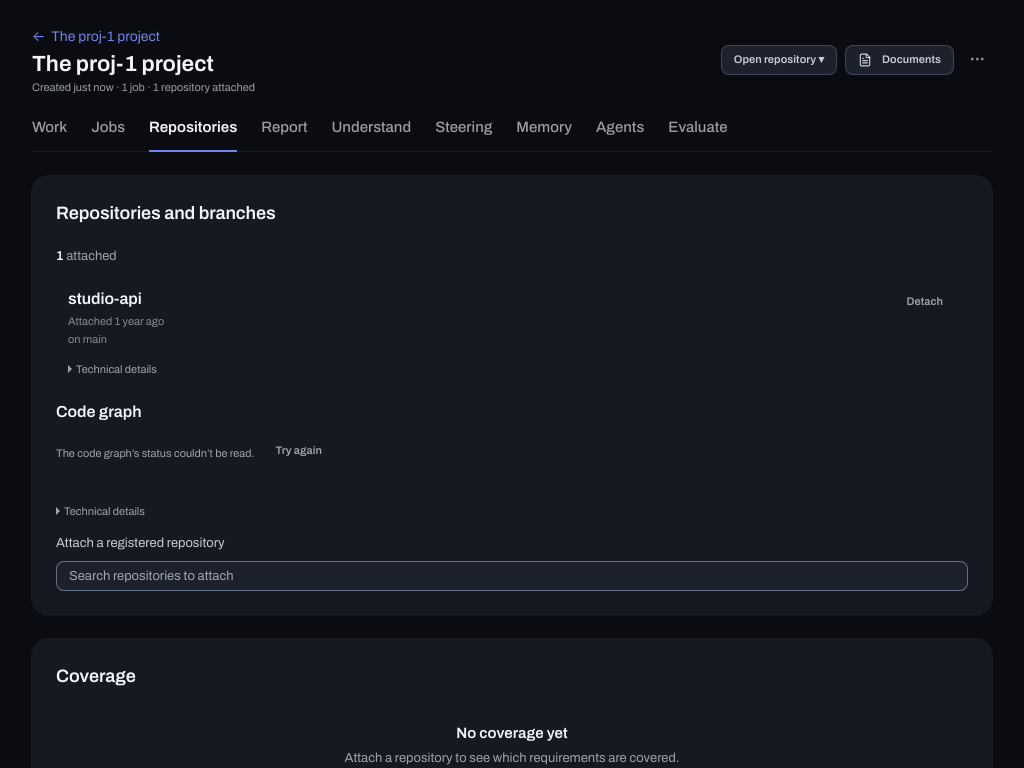
Test: ProjectDesk — Repositories section (studio#207) › attach and detach hand the parent back its non-repo members untouched
This screenshot has width=1024, height=768.
Focus the field with test id "project-repo-search" at (512, 576), box [56,561,968,591]
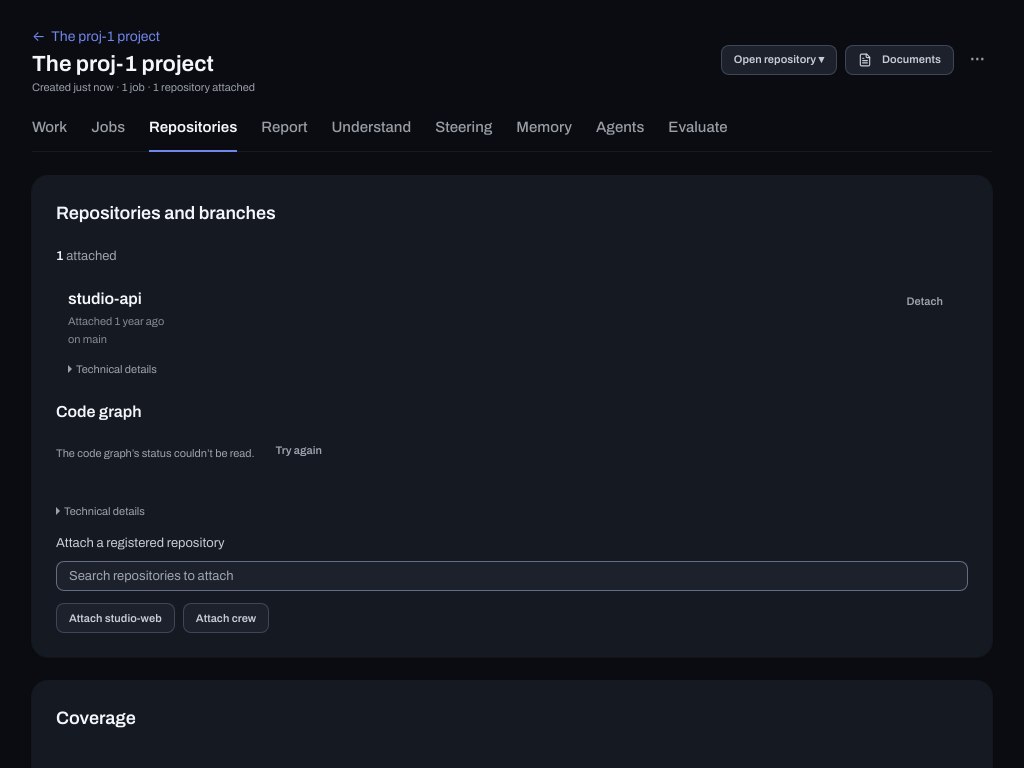
Click the button with test id "project-repo-option" showing "Attach crew" at (226, 618), box [183,603,269,633]
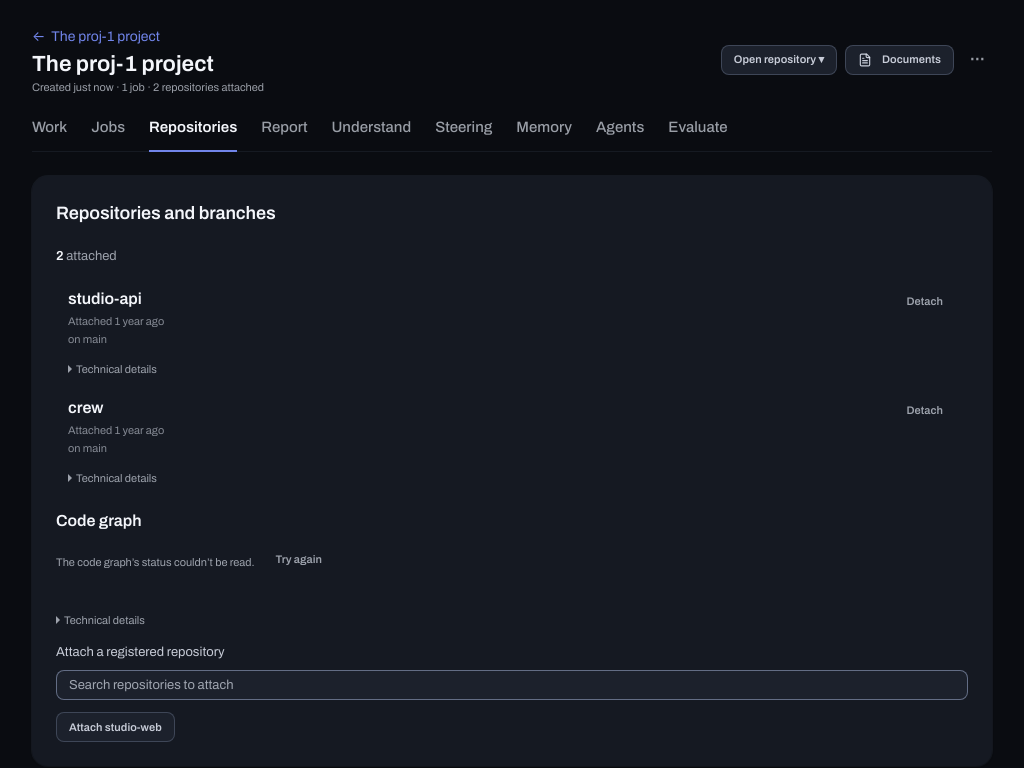
Now the number of elements with test id "project-repo-row" is 2, box [56,279,968,388]; [56,388,968,497]
Click the button with test id "project-repo-detach" in the row of "studio-api" at (925, 302), box [894,287,956,317]
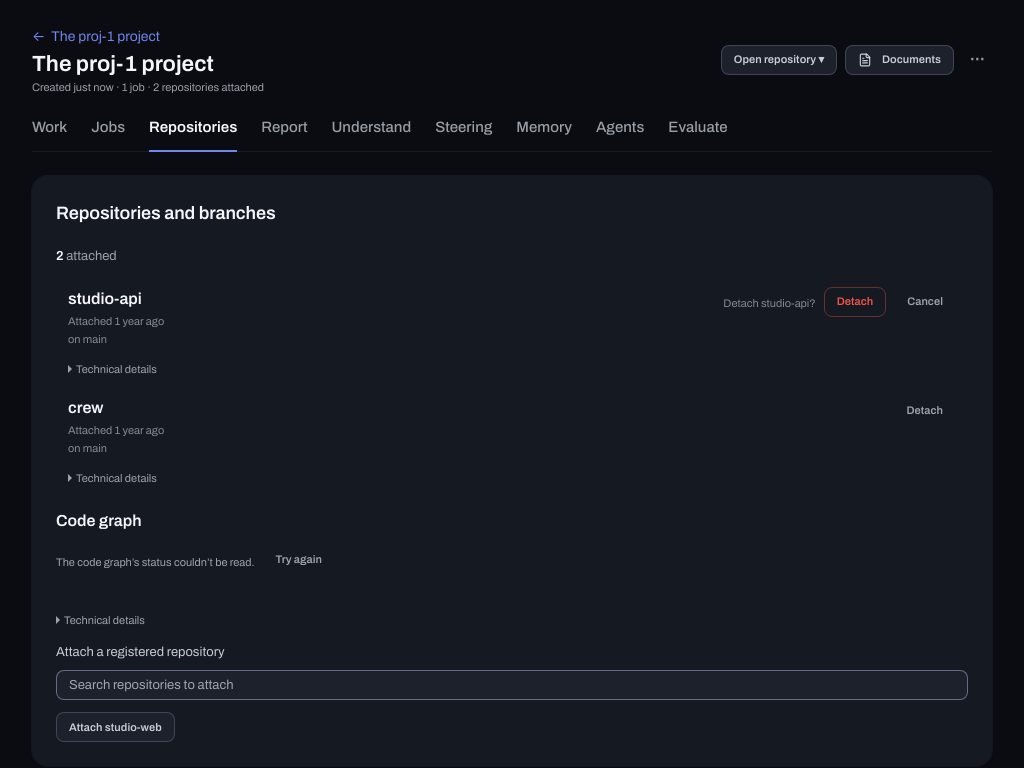
Click the button with test id "project-repo-detach-confirm" at (855, 302), box [824,287,886,317]
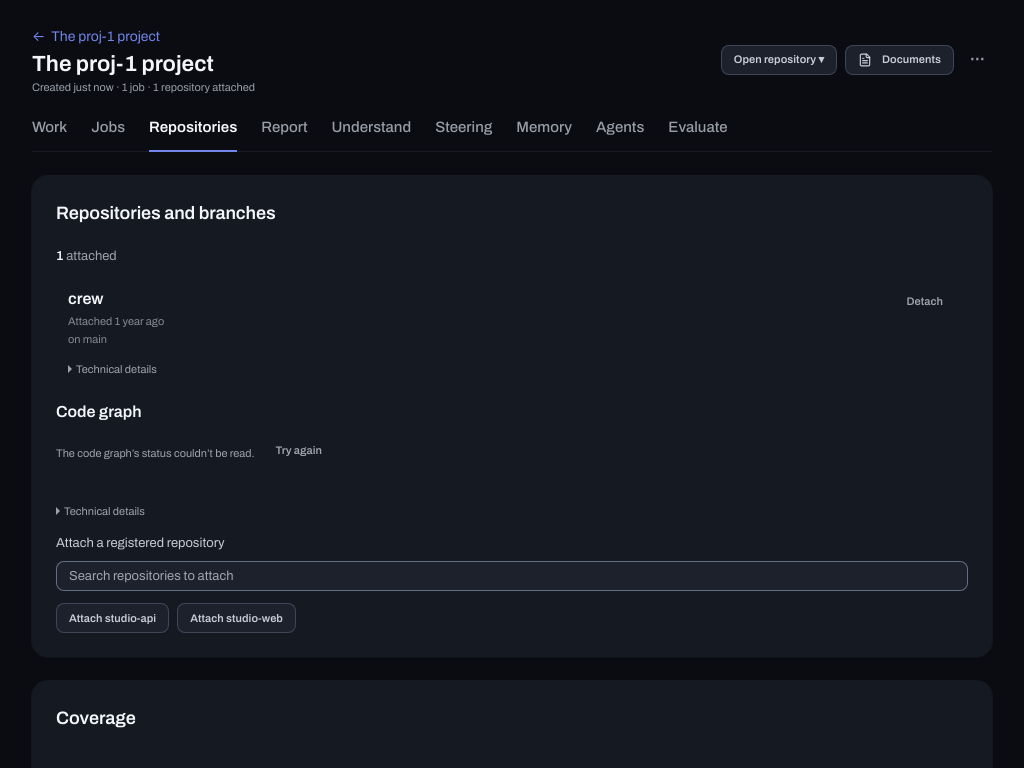
Now the number of elements with test id "project-repo-row" is 1, box [56,279,968,388]
